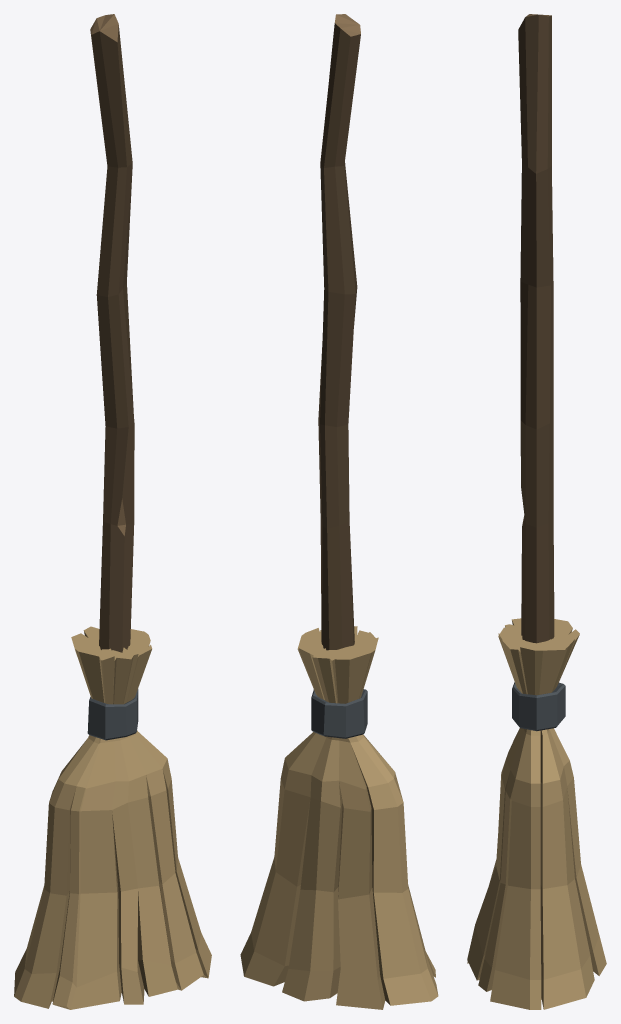
Rendered from WF_LP_HT_Props_Broom.002.fbx.
The picture shows the model from 3 angles, left to right: view 1: azimuth 30°, elevation 25°; view 2: azimuth 150°, elevation 25°; view 3: azimuth 270°, elevation 25°; orthographic projection.
Parts seen in each view (by area): view 1: WF_LP_HT_Props_Broom.002; view 2: WF_LP_HT_Props_Broom.002; view 3: WF_LP_HT_Props_Broom.002.
Part boxes in pixels (x1,y1,x2,y2): WF_LP_HT_Props_Broom.002: [14, 14, 211, 1009]; WF_LP_HT_Props_Broom.002: [240, 14, 438, 1009]; WF_LP_HT_Props_Broom.002: [467, 14, 606, 1009].
Bounding box in the file's own units: 0.3167 × 1.53 × 0.2028.
